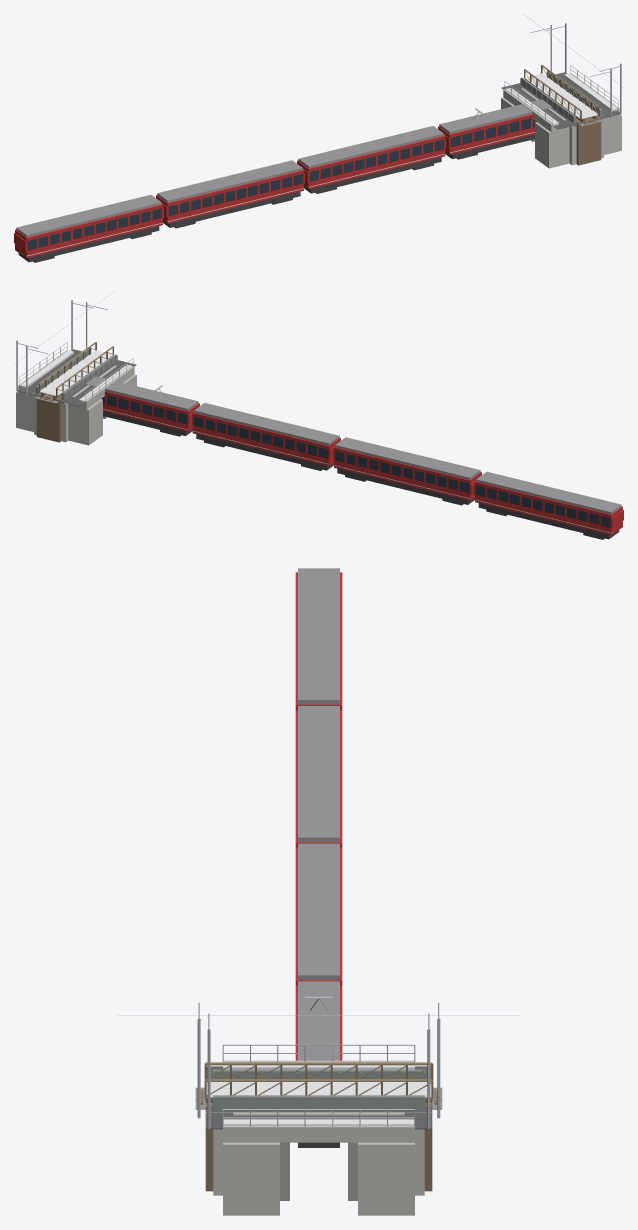
The model's file is bridges.glb.
3 views of the same model, one above another, from view 1: azimuth 30°, elevation 25°; view 2: azimuth 150°, elevation 25°; view 3: azimuth 270°, elevation 25° (orthographic). The views are drawn at different scales.
Visible parts, largest first — view 1: rhb_train, bridge_road_bridge, bridge_hanis_bridge, bridge_railway_bridge; view 2: rhb_train, bridge_road_bridge, bridge_hanis_bridge, bridge_railway_bridge; view 3: rhb_train, bridge_road_bridge, bridge_railway_bridge, bridge_hanis_bridge, bridge_stable_junction.
Boxes of the visible parts, x1=… form: rhb_train: x1=14, y1=99, x2=551, y2=262; bridge_road_bridge: x1=501, y1=14, x2=623, y2=168; bridge_hanis_bridge: x1=524, y1=65, x2=601, y2=165; bridge_railway_bridge: x1=520, y1=25, x2=611, y2=165; rhb_train: x1=86, y1=376, x2=623, y2=539; bridge_road_bridge: x1=14, y1=291, x2=136, y2=445; bridge_hanis_bridge: x1=36, y1=342, x2=113, y2=442; bridge_railway_bridge: x1=26, y1=302, x2=117, y2=442; rhb_train: x1=295, y1=568, x2=342, y2=1147; bridge_road_bridge: x1=118, y1=1013, x2=519, y2=1215; bridge_railway_bridge: x1=195, y1=1002, x2=442, y2=1195; bridge_hanis_bridge: x1=204, y1=1062, x2=433, y2=1191; bridge_stable_junction: x1=233, y1=1112, x2=404, y2=1200.
Size of the model in its own units: 76.22 by 11.43 by 22.95.
